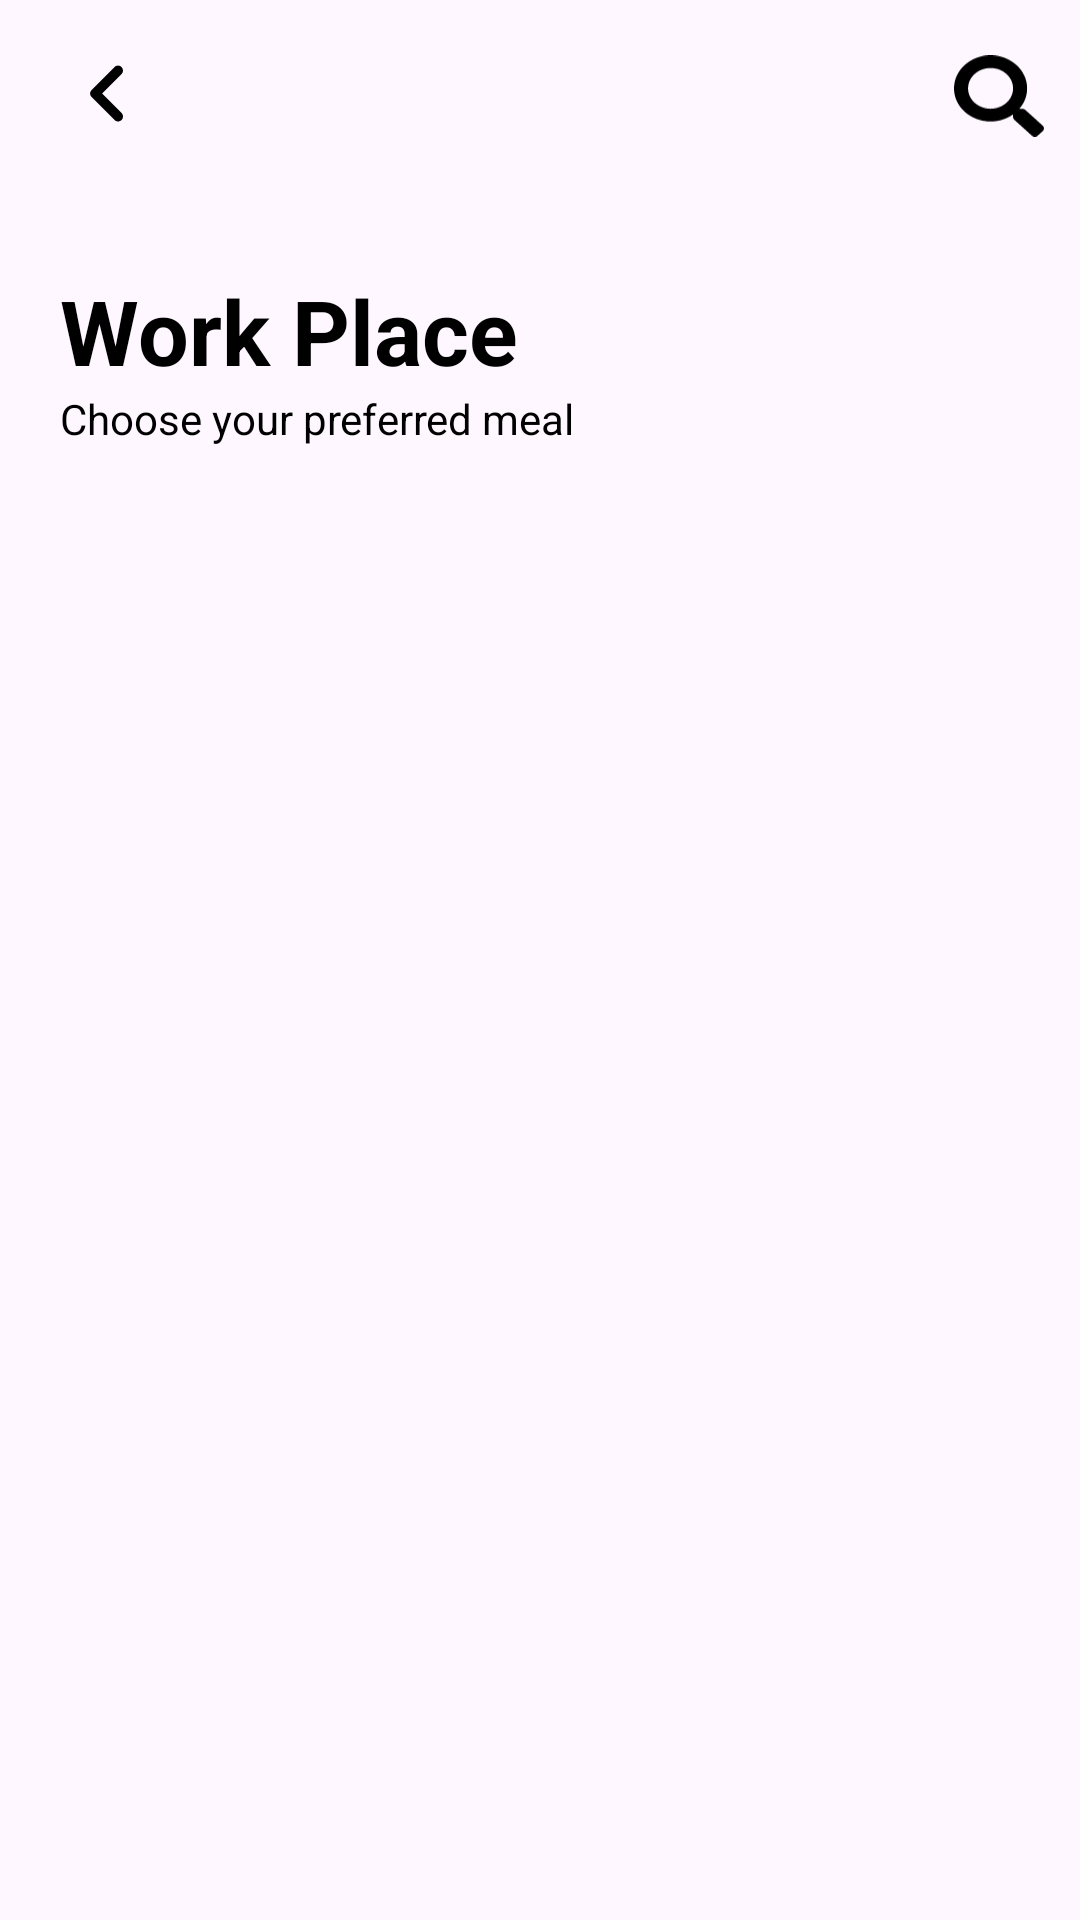

Screen size 1080w x 1920h. Icon name, then its center in pixels as [x,y]:
chevron left: [106,93]
